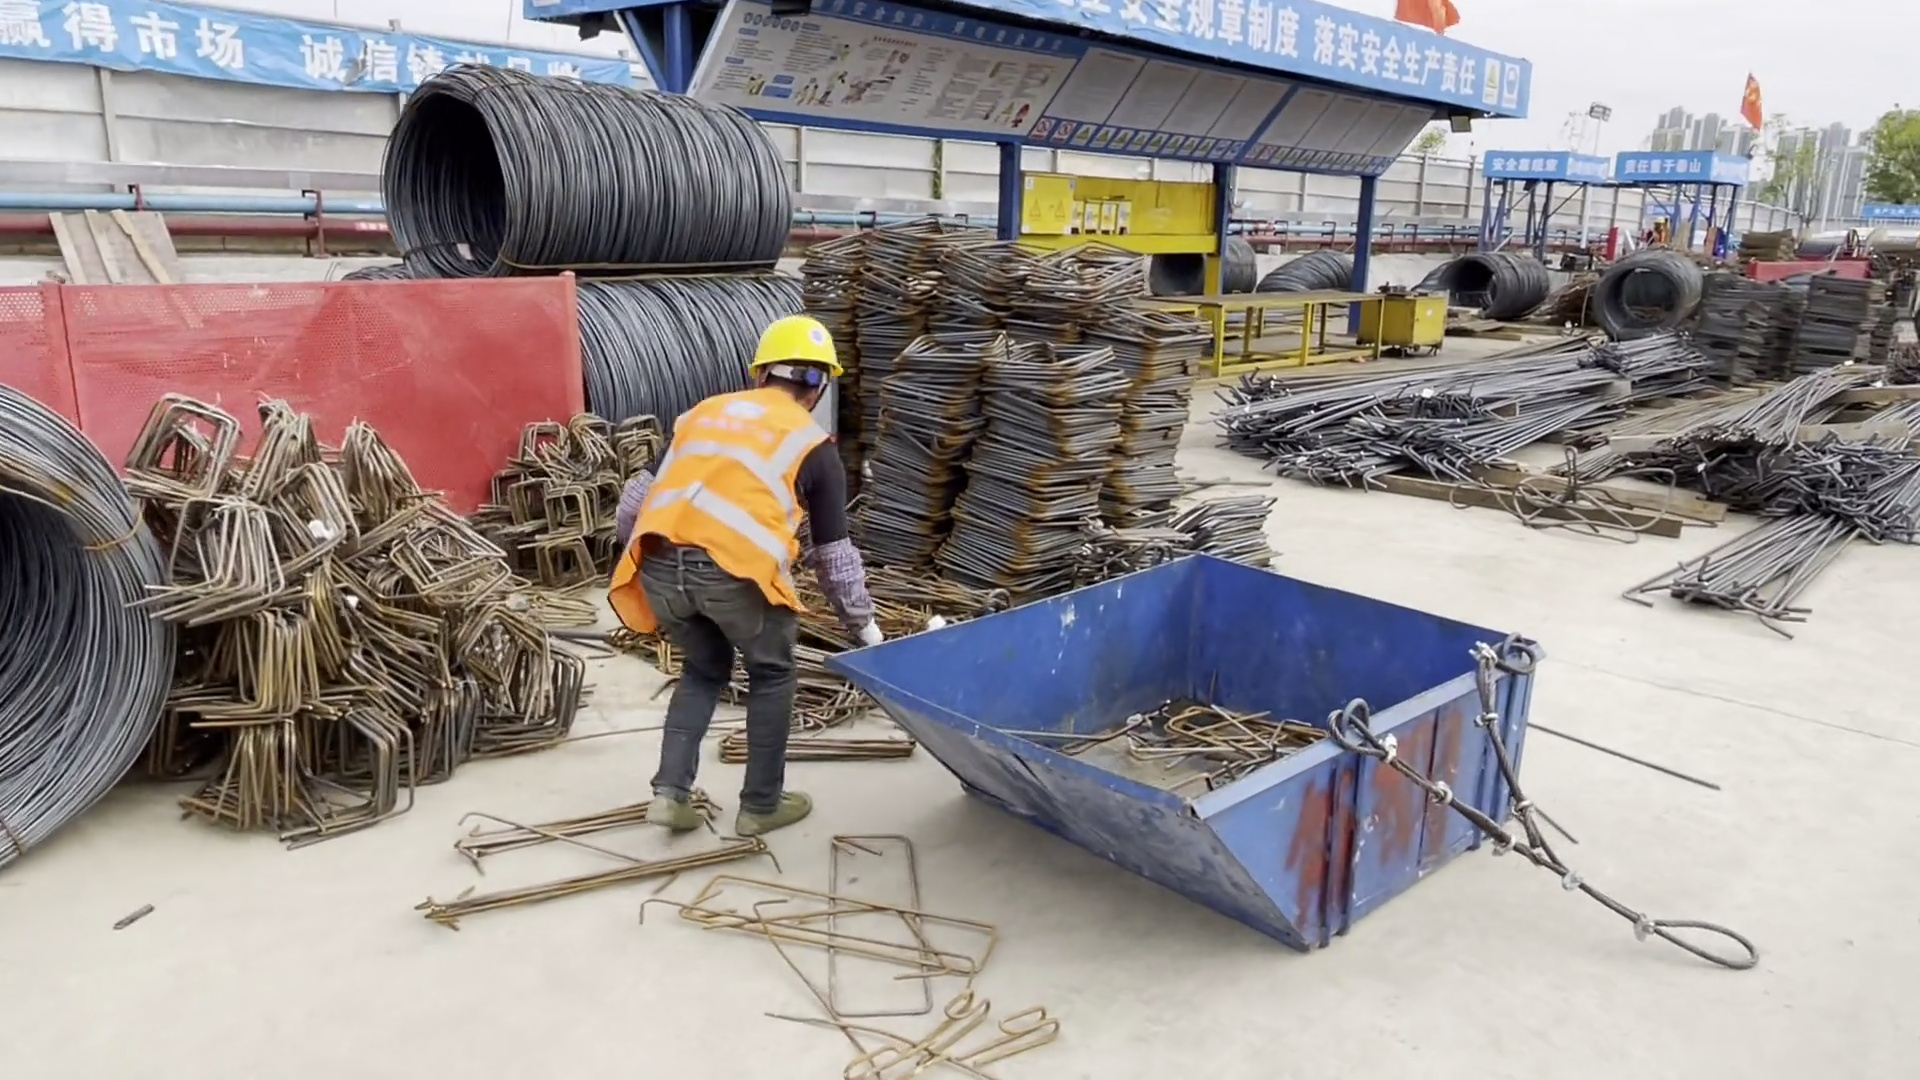cutter: (1356, 281, 1453, 356)
ebox: (1018, 169, 1074, 239)
fence: (5, 280, 584, 494)
helmet: (744, 315, 843, 380), (1651, 213, 1663, 223)
hopper: (826, 550, 1541, 957)
person: (602, 315, 871, 833), (1646, 216, 1664, 242)
rebar: (1242, 366, 1614, 472), (1652, 455, 1919, 533), (1674, 503, 1843, 615), (1685, 354, 1862, 458), (1590, 328, 1692, 391)
slogan: (1048, 1, 1533, 120), (3, 6, 629, 96), (700, 40, 1066, 135), (1478, 150, 1608, 183), (1621, 159, 1741, 178), (1867, 202, 1920, 218)
vest: (607, 389, 814, 629)
